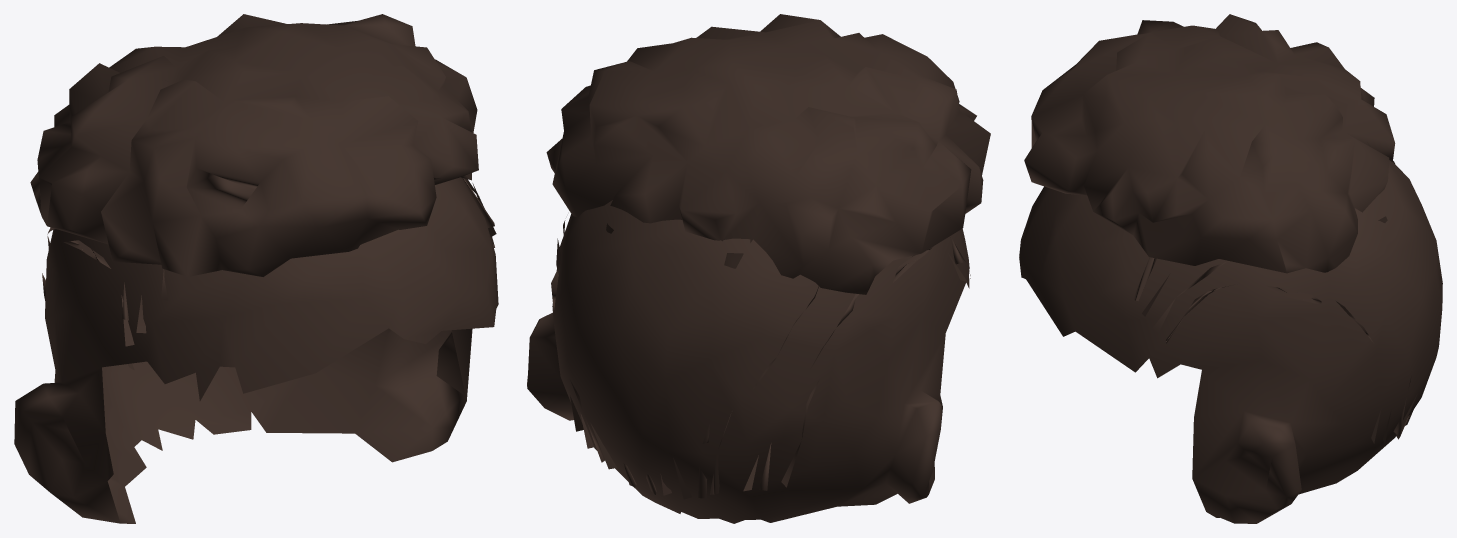
The model's file is curls.glb.
The picture shows the model from 3 angles, left to right: view 1: azimuth 30°, elevation 25°; view 2: azimuth 150°, elevation 25°; view 3: azimuth 270°, elevation 25°; orthographic projection. The views are drawn at different scales.
Parts seen in each view (by area): view 1: HairScalp, Hair, HairPulledRootStrands; view 2: HairScalp, Hair, HairPulledRootStrands; view 3: HairScalp, Hair, HairPulledRootStrands.
Boxes of the visible parts, box(x1,y1,x2,y2) form: HairScalp: box(14, 177, 498, 523); Hair: box(30, 14, 478, 276); HairPulledRootStrands: box(42, 177, 496, 370); HairScalp: box(527, 200, 970, 523); Hair: box(546, 14, 990, 294); HairPulledRootStrands: box(551, 220, 967, 499); HairScalp: box(1019, 160, 1442, 523); Hair: box(1024, 14, 1395, 273); HairPulledRootStrands: box(1133, 257, 1417, 443).
Bounding box in the file's own units: 0.4681 × 0.4544 × 0.4392.
